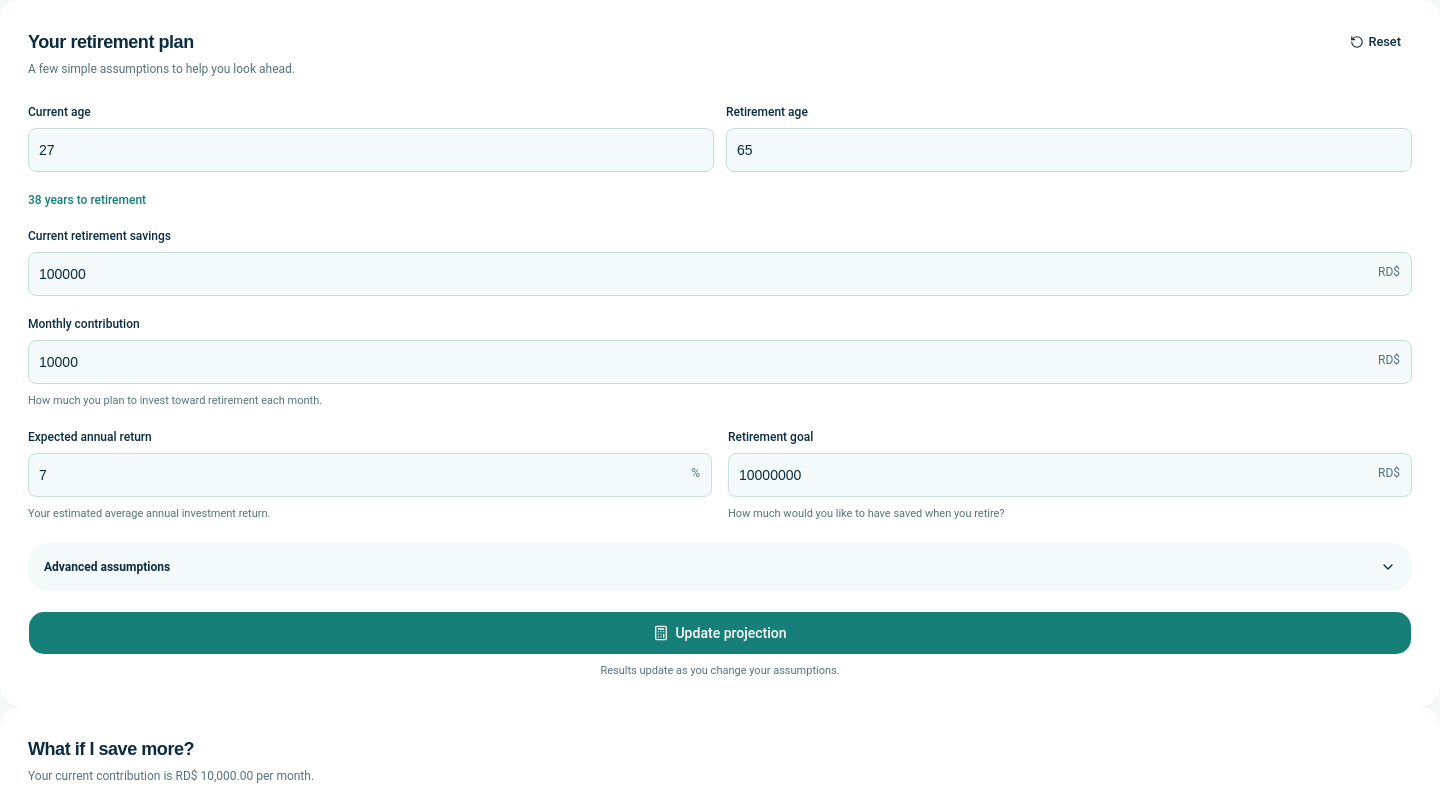
retirement planner controls › keeps advanced assumptions collapsed and updates the retirement horizon
Replace the text in the number field labelled "Retirement age" with "70" at [1069, 150], box [726,128,1412,172]
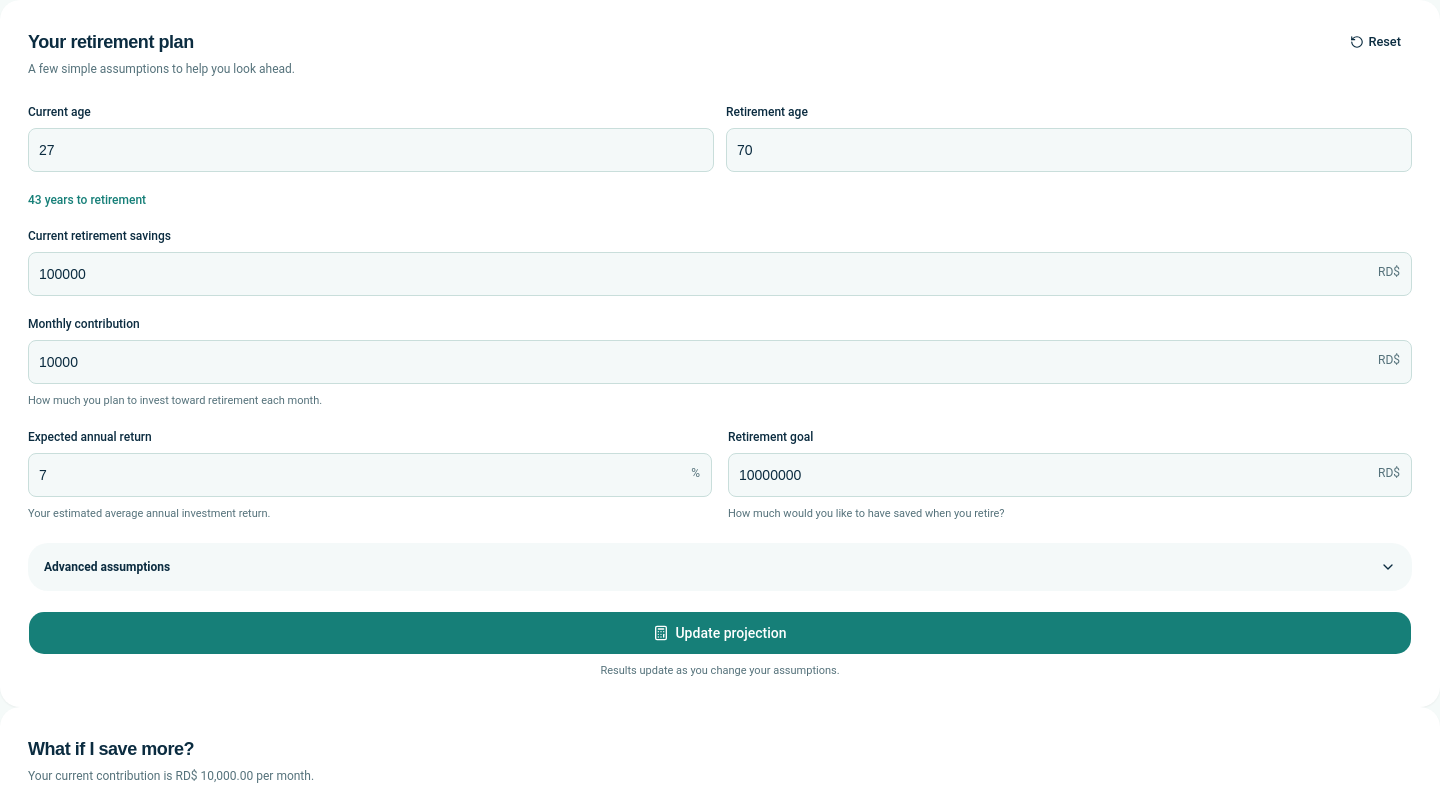
Now the text "43 years to retirement" is shown, box [28,192,146,206]
Replace the text in the number field labelled "Current age" with "80" at [371, 150], box [28,128,714,172]
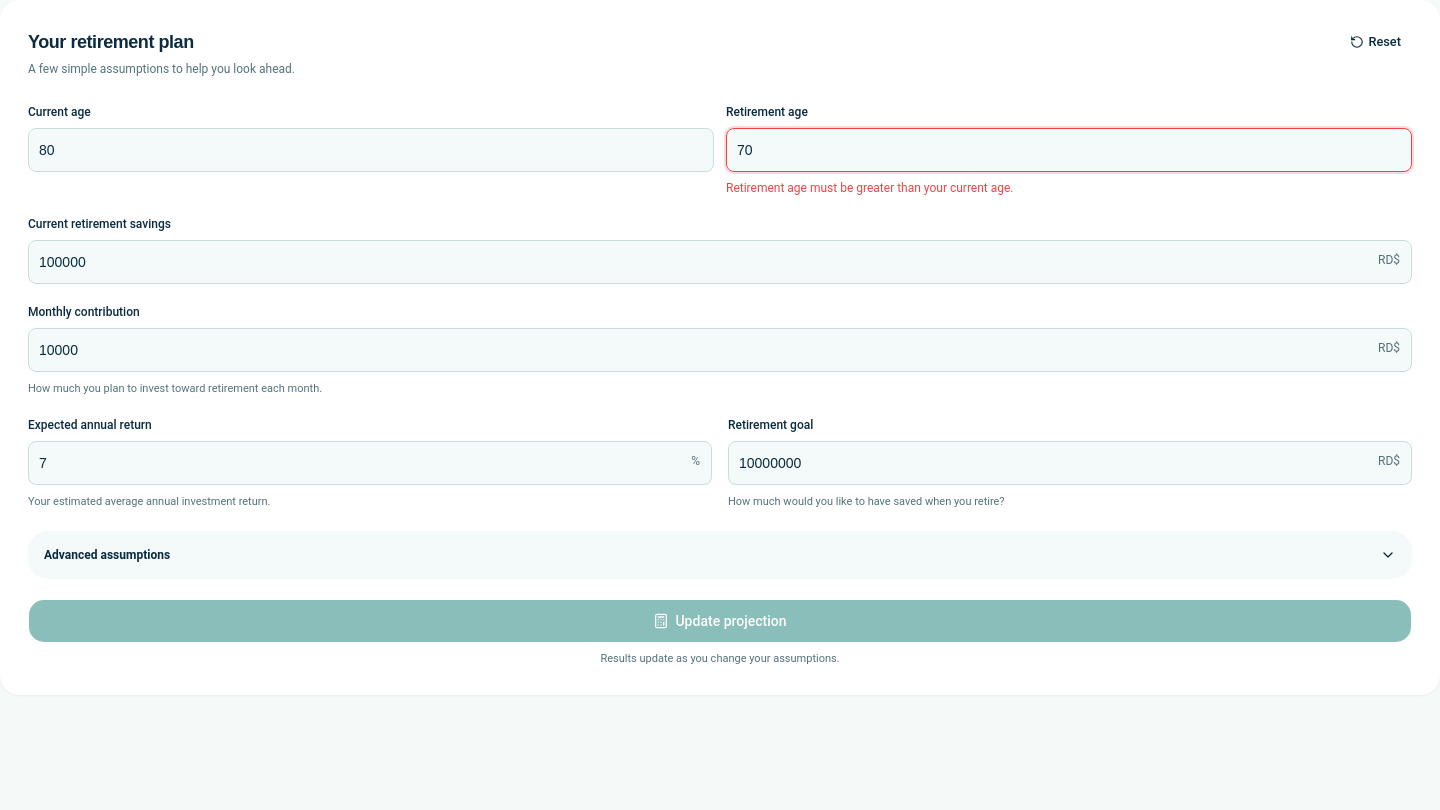
Now the text "Retirement age must be greater than your current age." is shown, box [726,180,1014,194]
Now the button "Update projection" is disabled, box [28,599,1412,643]
